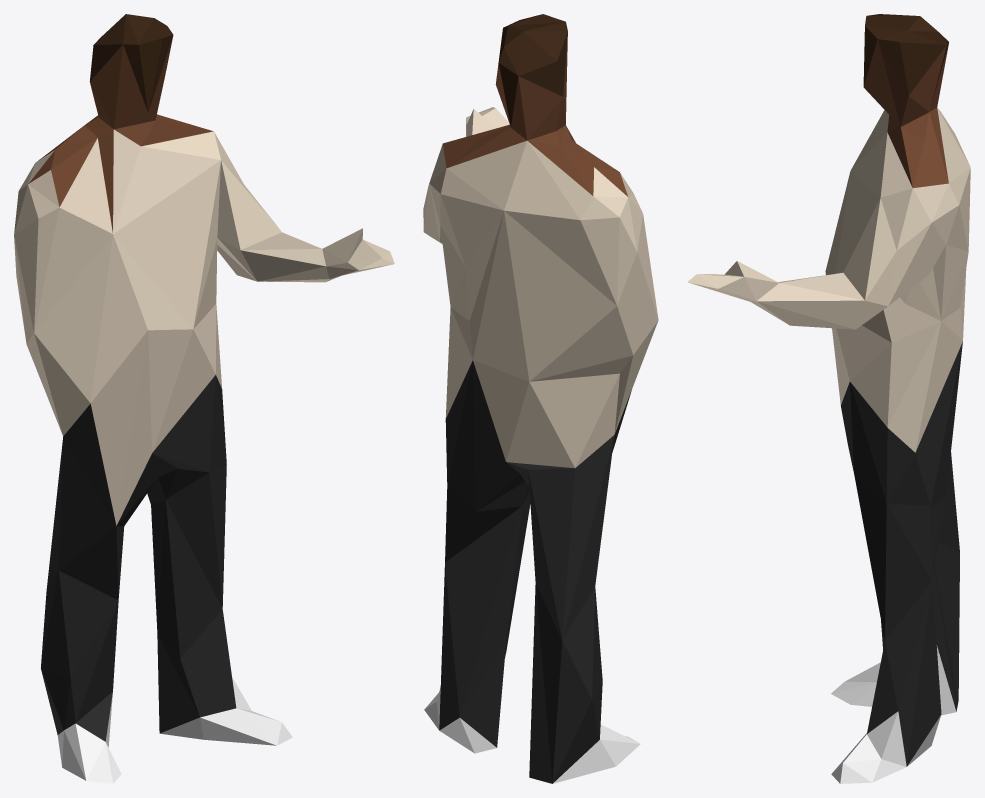
File: walker-22.glb
3 renders of one model, left to right at view 1: azimuth 30°, elevation 25°; view 2: azimuth 150°, elevation 25°; view 3: azimuth 270°, elevation 25°, orthographic. The views are drawn at different scales.
Visible parts, largest first — view 1: Man01; view 2: Man01; view 3: Man01.
Boxes of the visible parts, <box> form: Man01: <box>14,14,394,783</box>; Man01: <box>423,14,658,783</box>; Man01: <box>687,14,970,783</box>.
Size of the model in its own units: 0.6402 by 1.62 by 0.5873.
